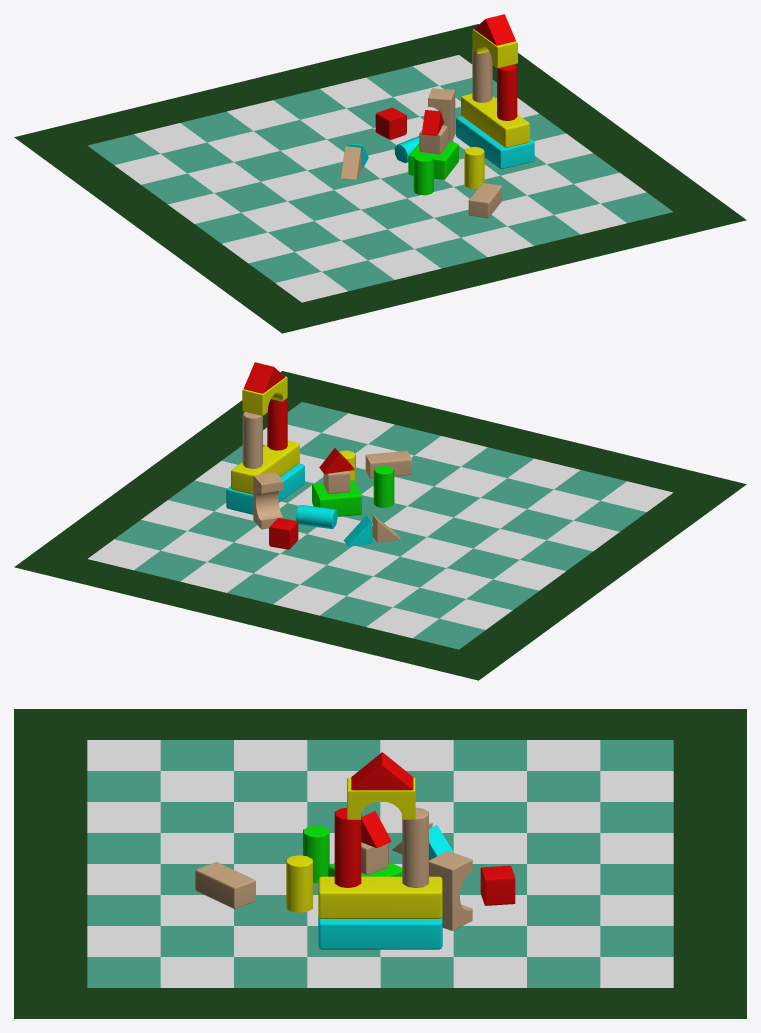
File: Enviro_blocks_001.fbx
3 views of the same model, one above another, from view 1: azimuth 30°, elevation 25°; view 2: azimuth 150°, elevation 25°; view 3: azimuth 270°, elevation 25° (orthographic). The views are drawn at different scales.
Parts seen in each view (by area): view 1: blocks; view 2: blocks; view 3: blocks.
Part boxes in pixels (<box>): blocks: <box>14,14,746,333</box>; blocks: <box>14,362,746,680</box>; blocks: <box>14,709,746,1018</box>.
Bounding box in the file's own units: 140 × 38.93 × 140.
